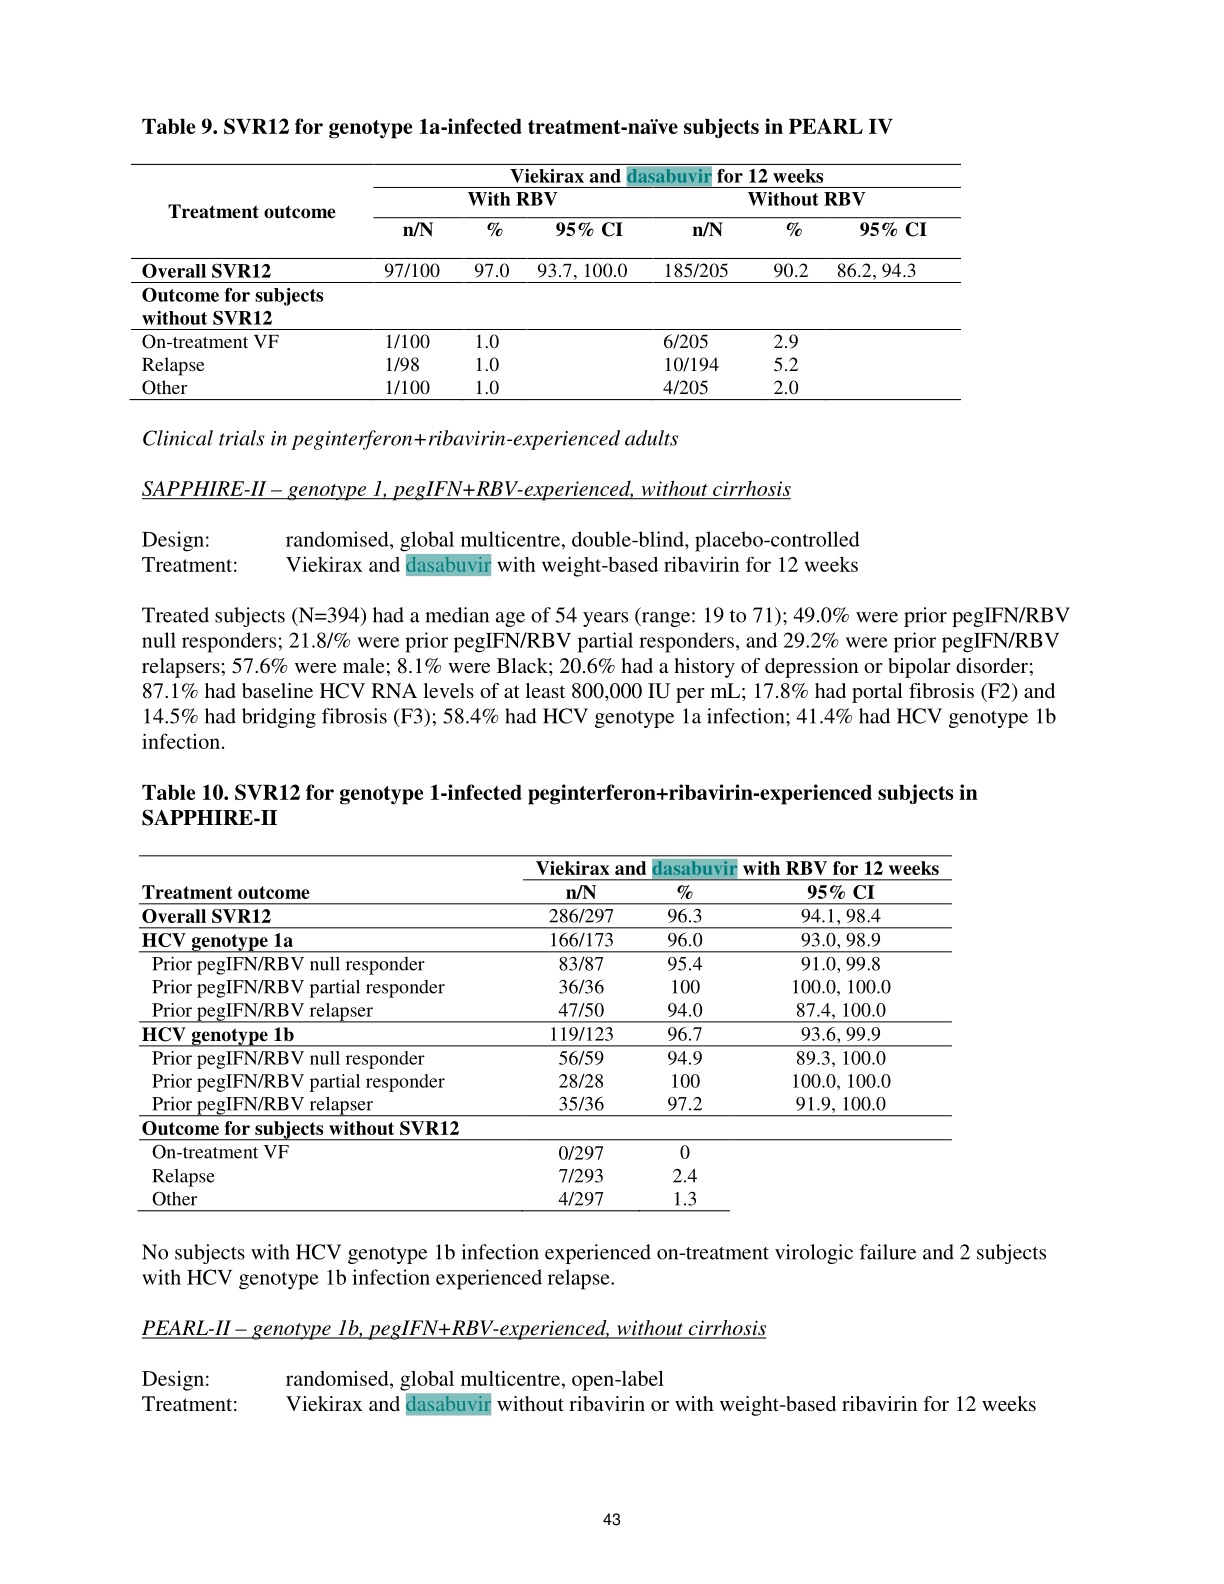partial_lined_merged_cells: (138, 851, 955, 1215), (127, 159, 963, 402)
